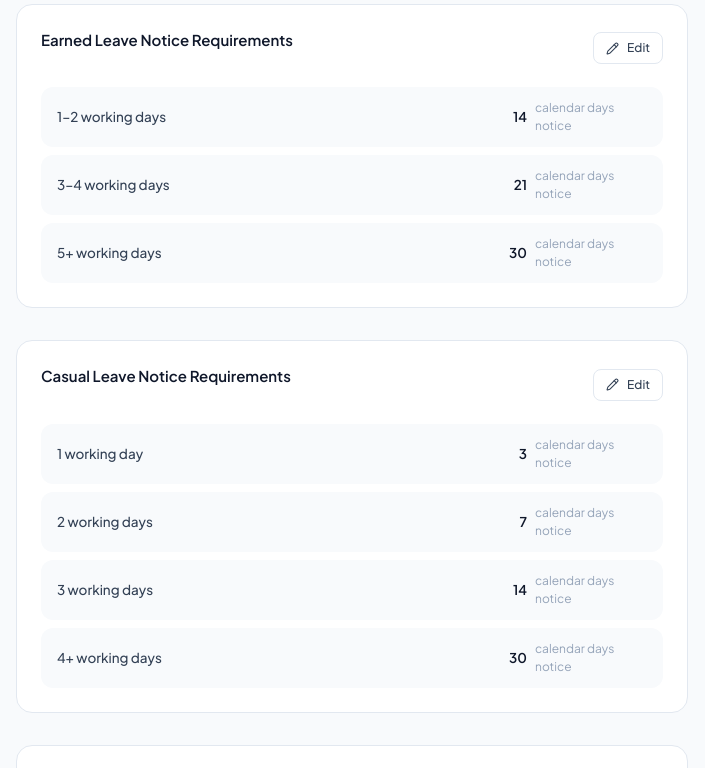
it: Casual leave notice requirements › discards casual edits on cancel
The width and height of the screenshot is (705, 768).
(page scrolled)
Click the button "Edit" in the row of "Casual Leave Notice Requirements" at (628, 384), box 593,368 -> 663,400
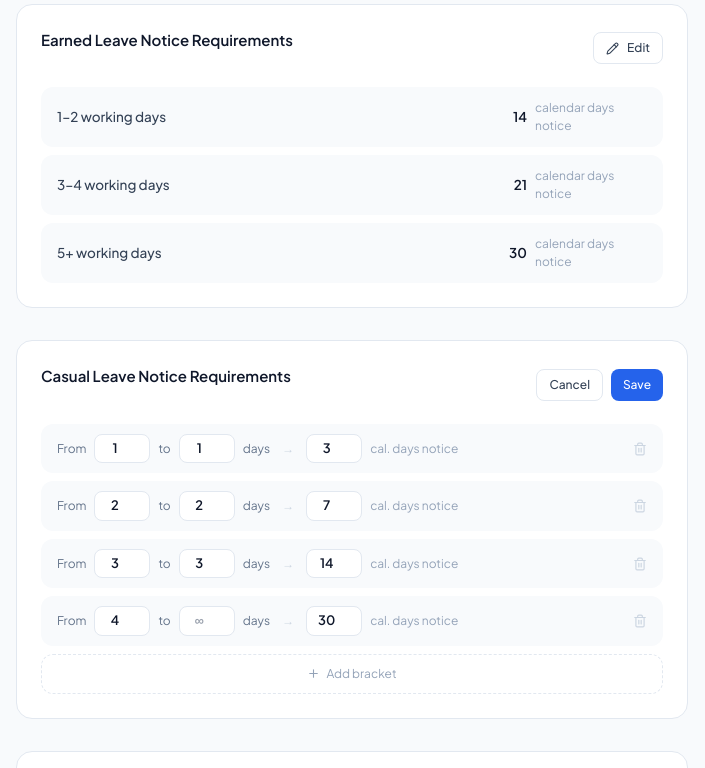
Replace the text in the number field named "Bracket 1 calendar days notice" with "99" at (334, 449), box 306,434 -> 362,463
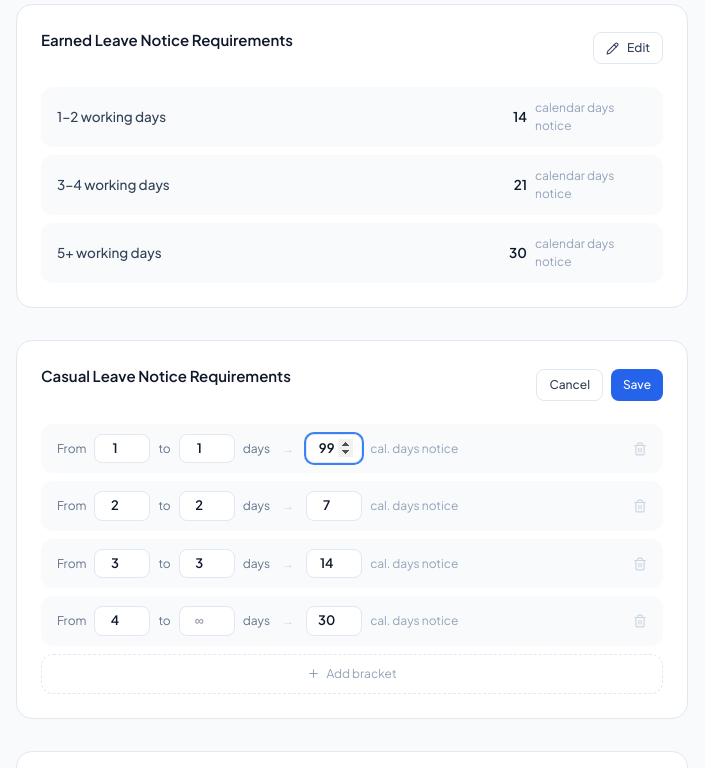
Click the button "Cancel" at (570, 384), box 536,368 -> 603,400
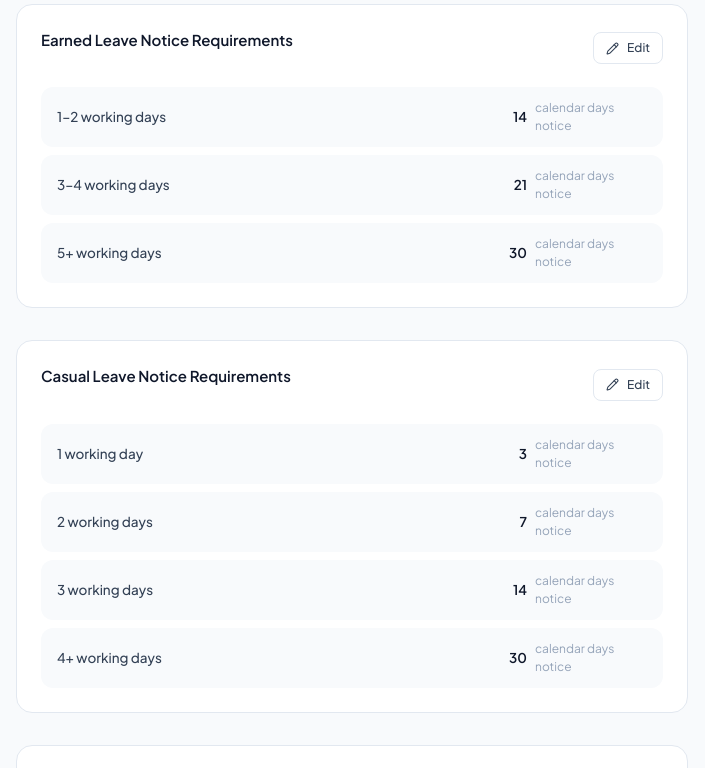
Expected: the text "99" is not shown
Expected: the text "1 working day" is shown, 57,444 -> 143,464
